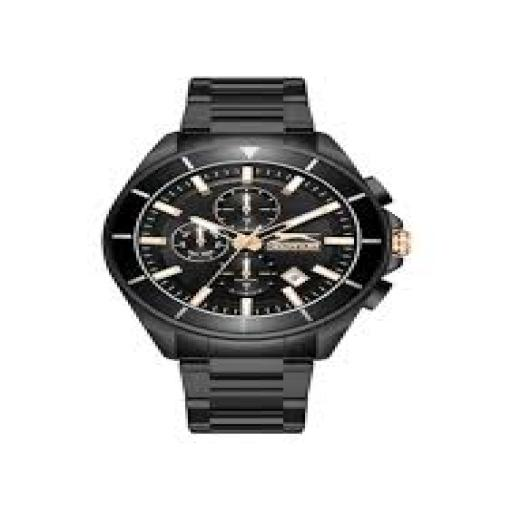KolSaati: (96, 52, 426, 440)
